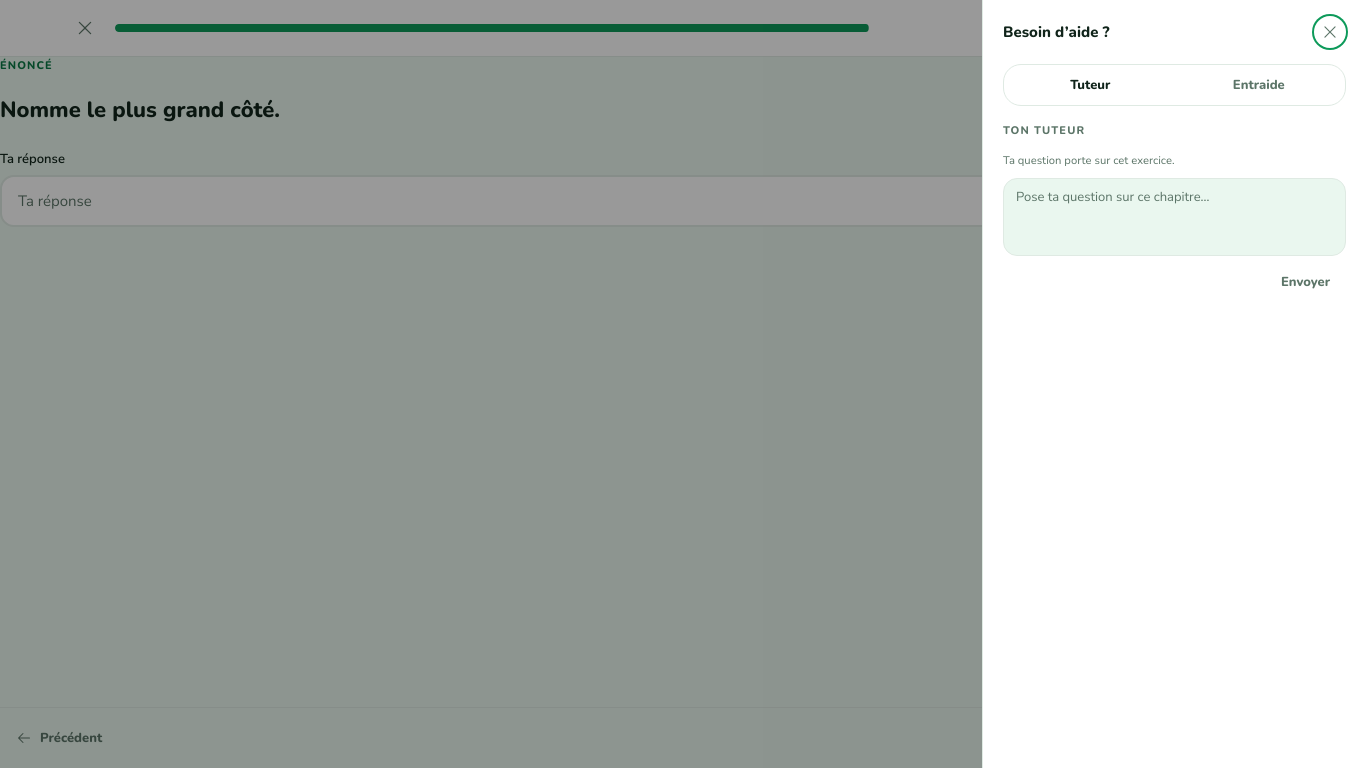
it: interactive mode — help drawer (#250) › opens the slide holding a cited block, and closes
Type "Rappel ?" into the text box named "Ta question au tuteur" at (1174,217), box [1003, 178, 1346, 256]
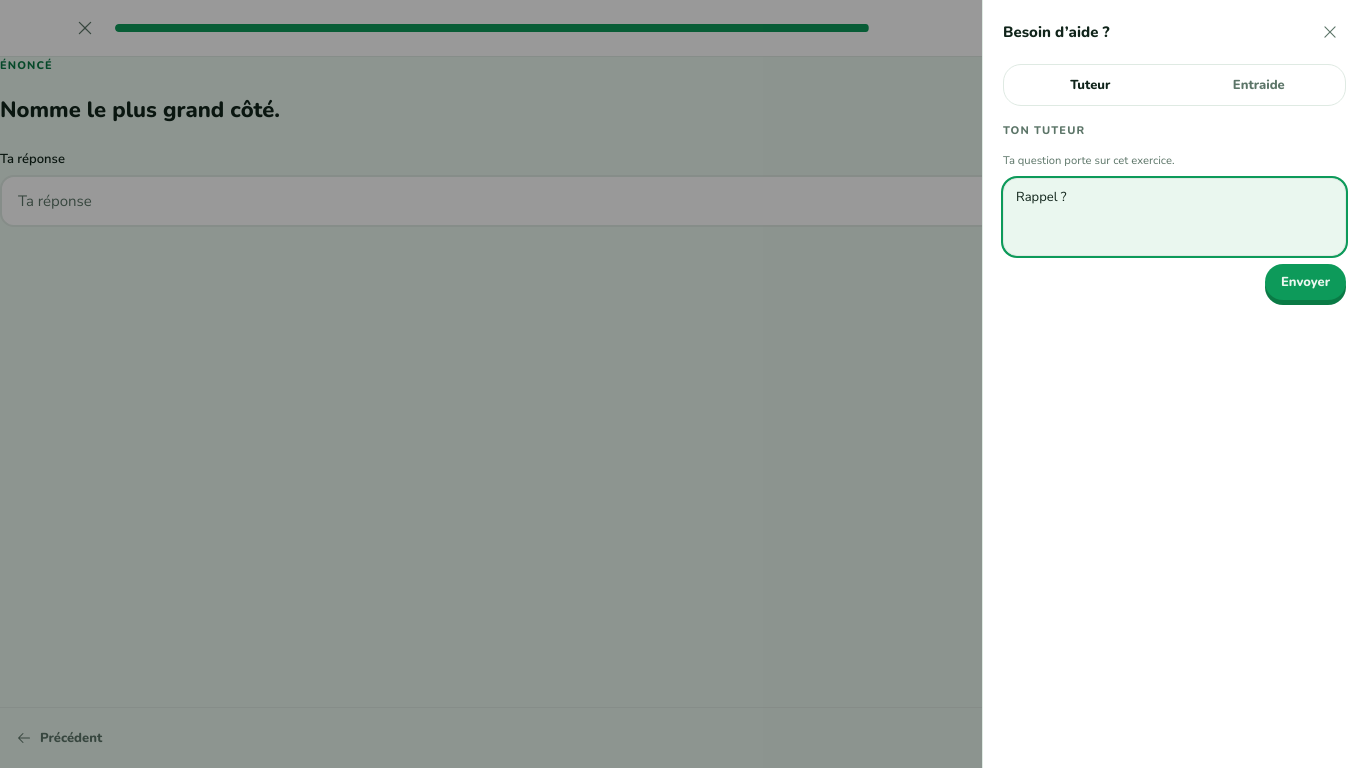
Click the button "Envoyer" at (1305,282), box [1265, 264, 1346, 300]
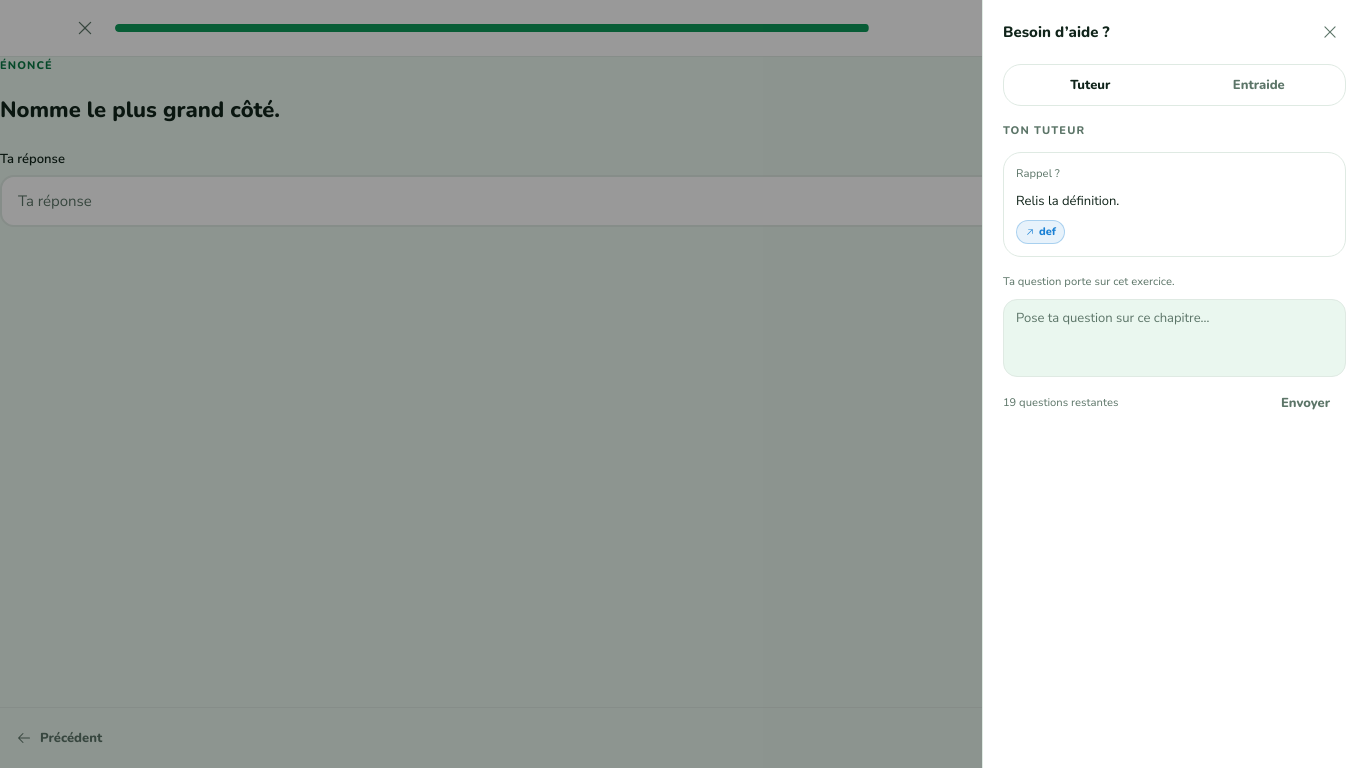
Click the button "def" at (1040,232), box [1016, 220, 1065, 244]
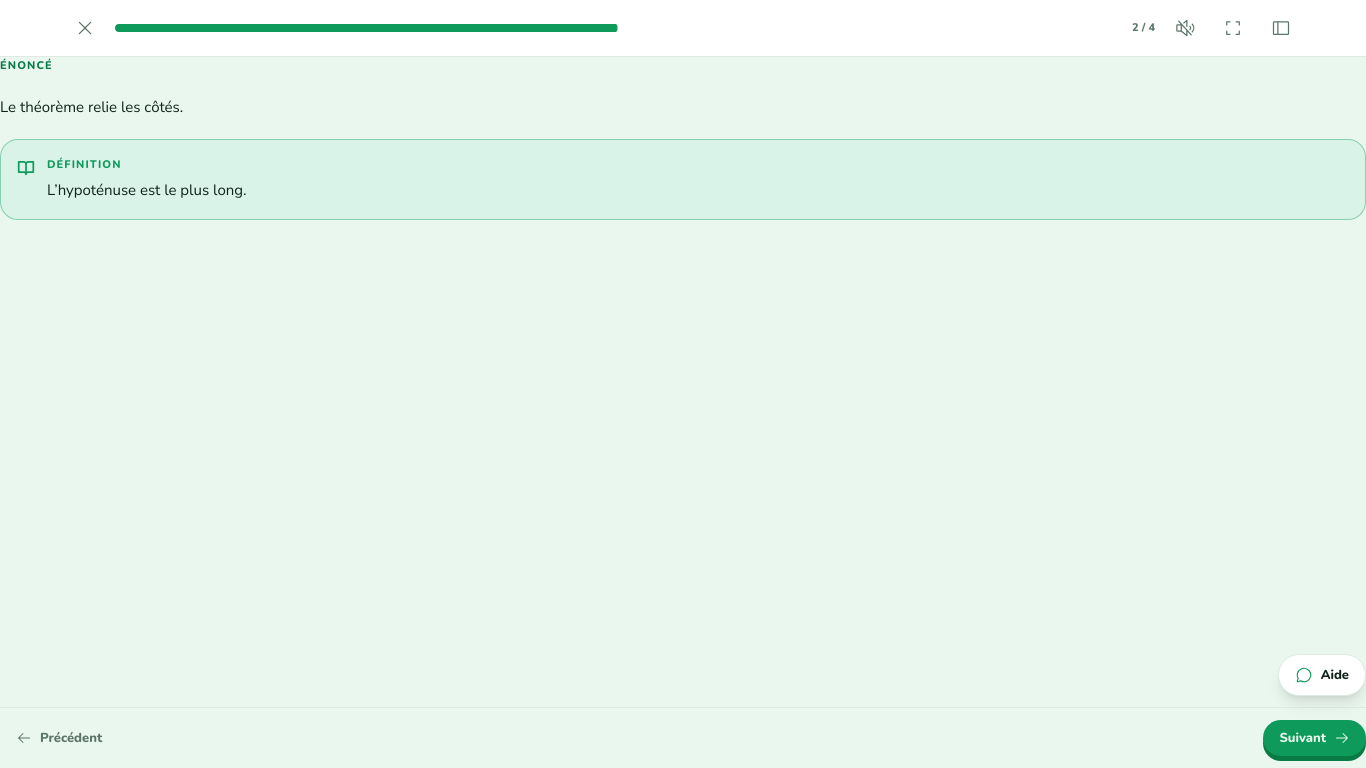
Check: the dialog is gone
